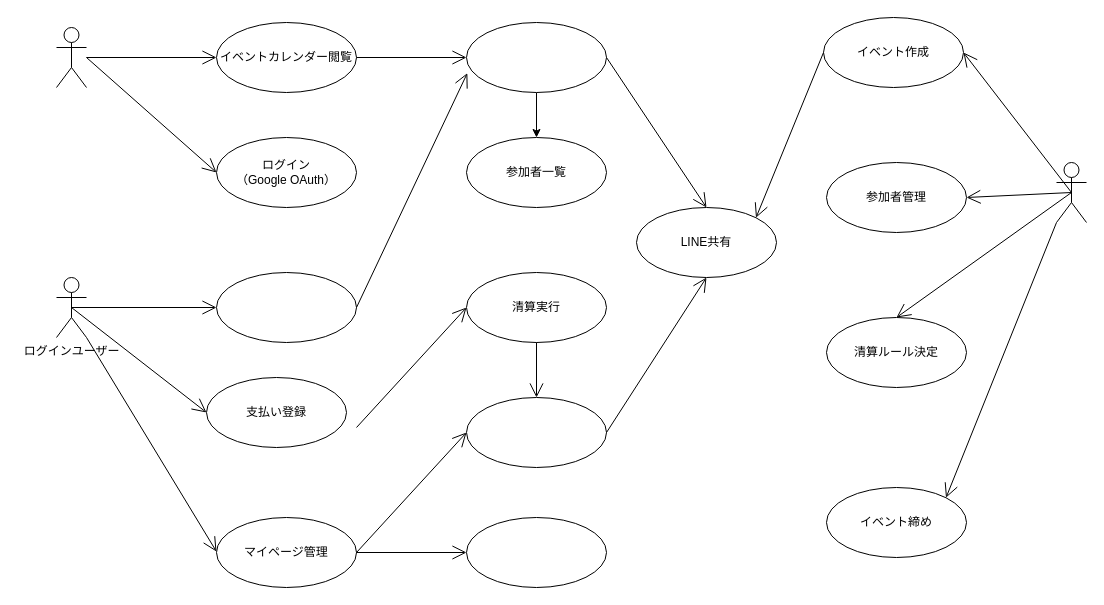
The diagram is 1104 pixels wide and 605 high, and some of its shapes have lost their labels. Each missing label, with the box of its shape:
イベント参加: (216, 272, 356, 342)
イベント詳細: (466, 22, 606, 92)
参加イベント一覧: (466, 516, 606, 588)
幹事: (1056, 162, 1086, 222)
未ログインユーザー: (56, 26, 86, 88)
清算結果閲覧: (466, 396, 606, 468)
